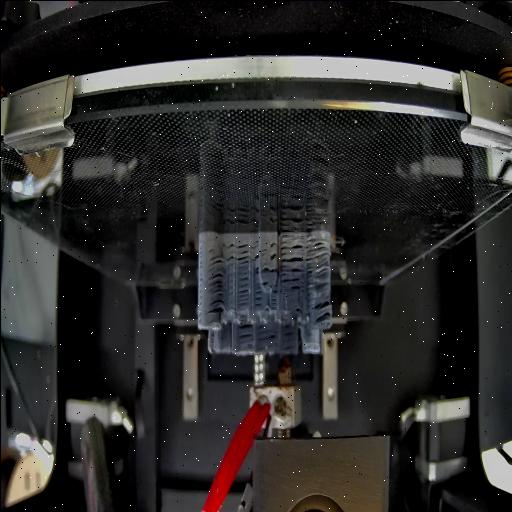cracks: (206, 248, 224, 314), (306, 238, 328, 288), (235, 242, 249, 306), (279, 236, 302, 274), (308, 299, 330, 320), (279, 274, 300, 290), (256, 324, 274, 340), (237, 323, 251, 341), (252, 285, 262, 308), (252, 238, 258, 274), (280, 322, 292, 338), (268, 288, 278, 307), (268, 238, 276, 261), (261, 264, 277, 274), (226, 240, 232, 262), (259, 280, 269, 286)
